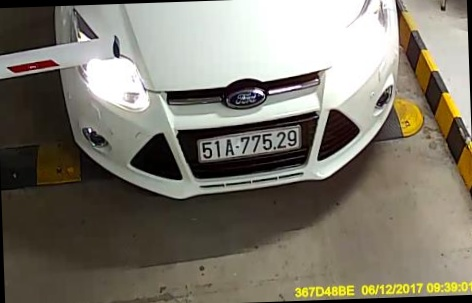plate: (194, 124, 308, 172)
